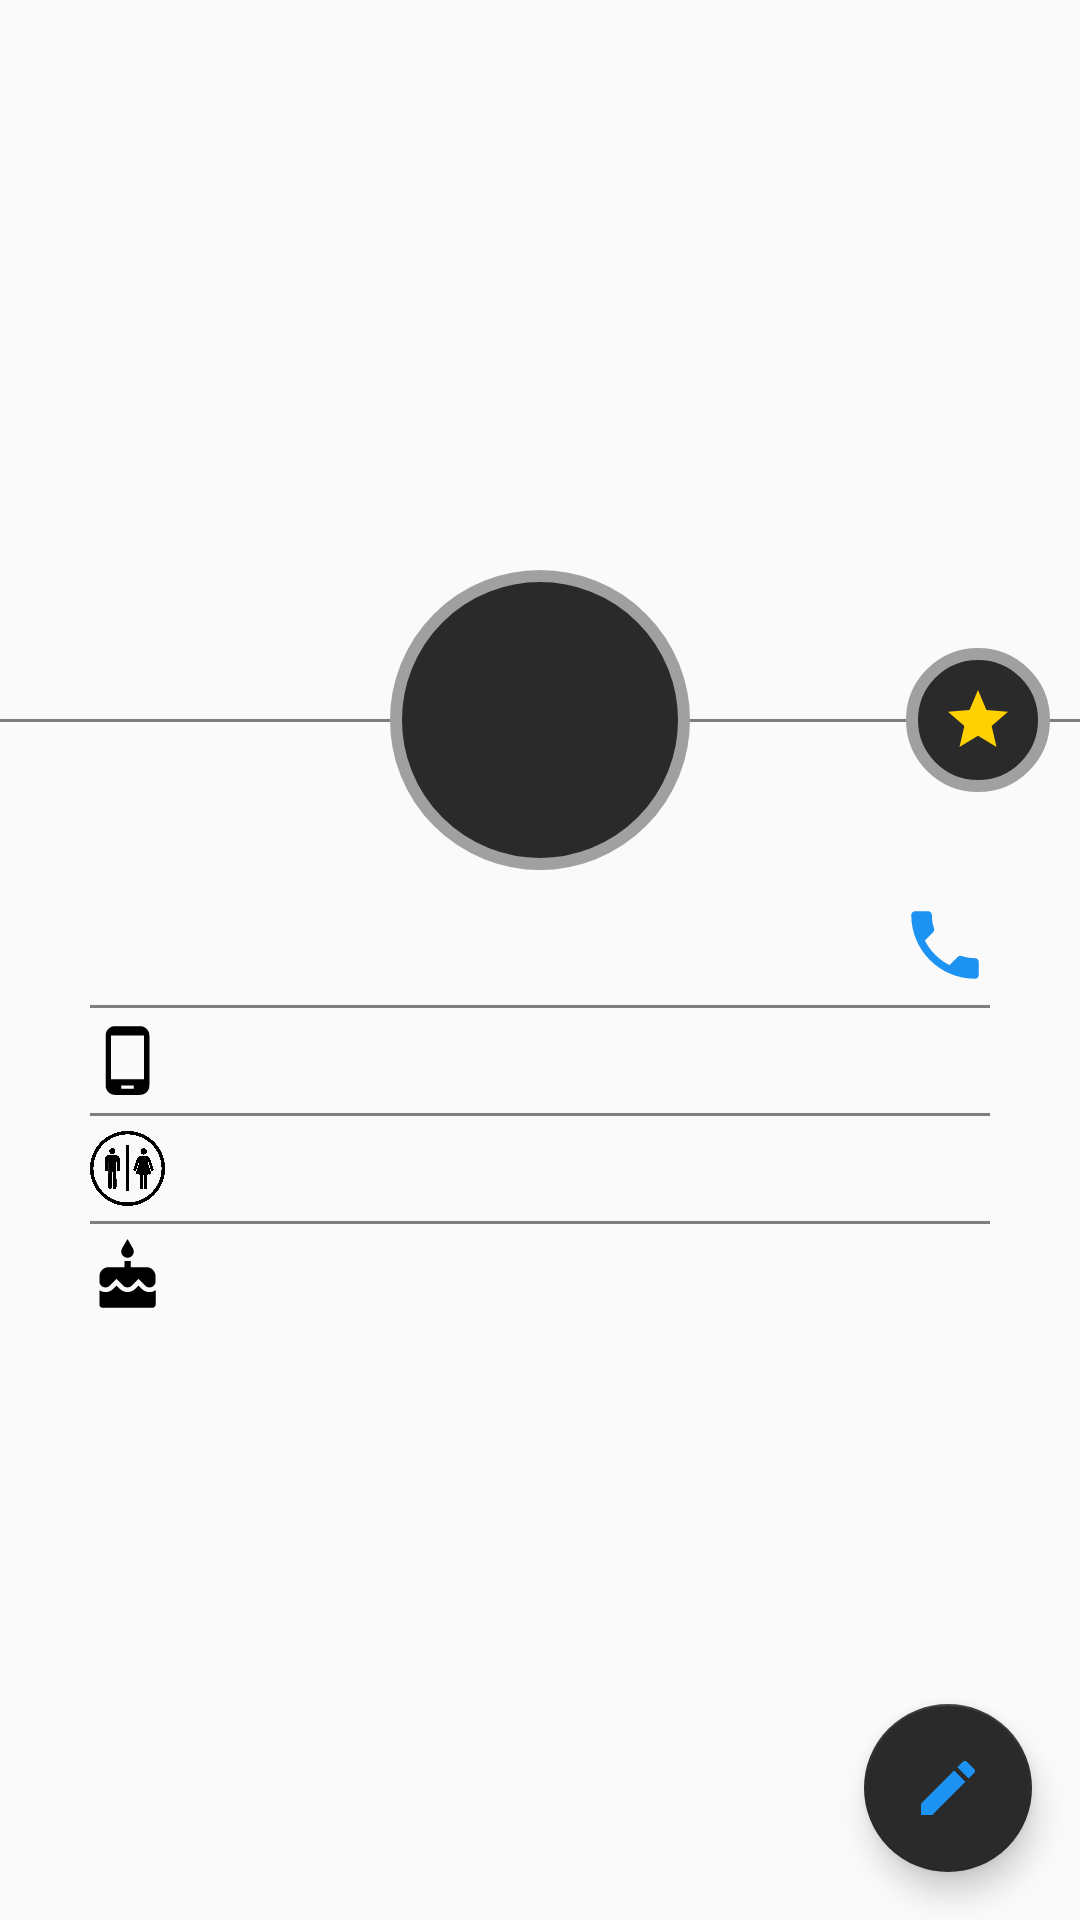

Icons on this 1080w x 1920h Android screen, each with its box as (x1, y1, x2, y2):
birthday: (99, 1239, 156, 1308)
call: (911, 911, 979, 979)
edit: (864, 1704, 1032, 1872)
favorite star: (906, 648, 1050, 792)
gender: (90, 1131, 165, 1206)
phone: (105, 1026, 150, 1095)
